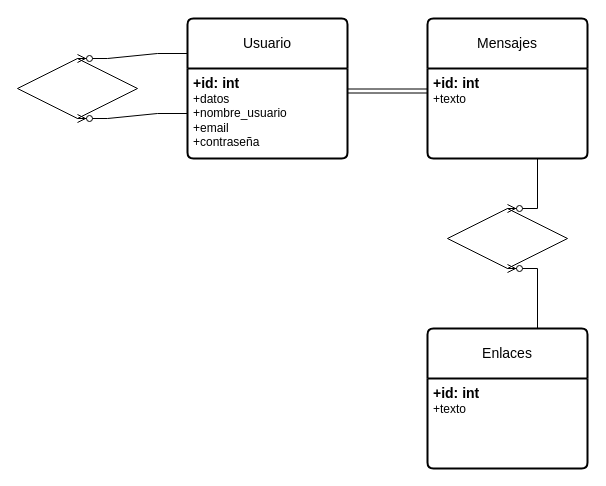
Some shapes in this 606 by 486 pixel diagram are drawn without their labels. Each missing label, with the centre of its shape:
"Contener" goes at (x=507, y=238).
"Seguir" goes at (x=77, y=88).
